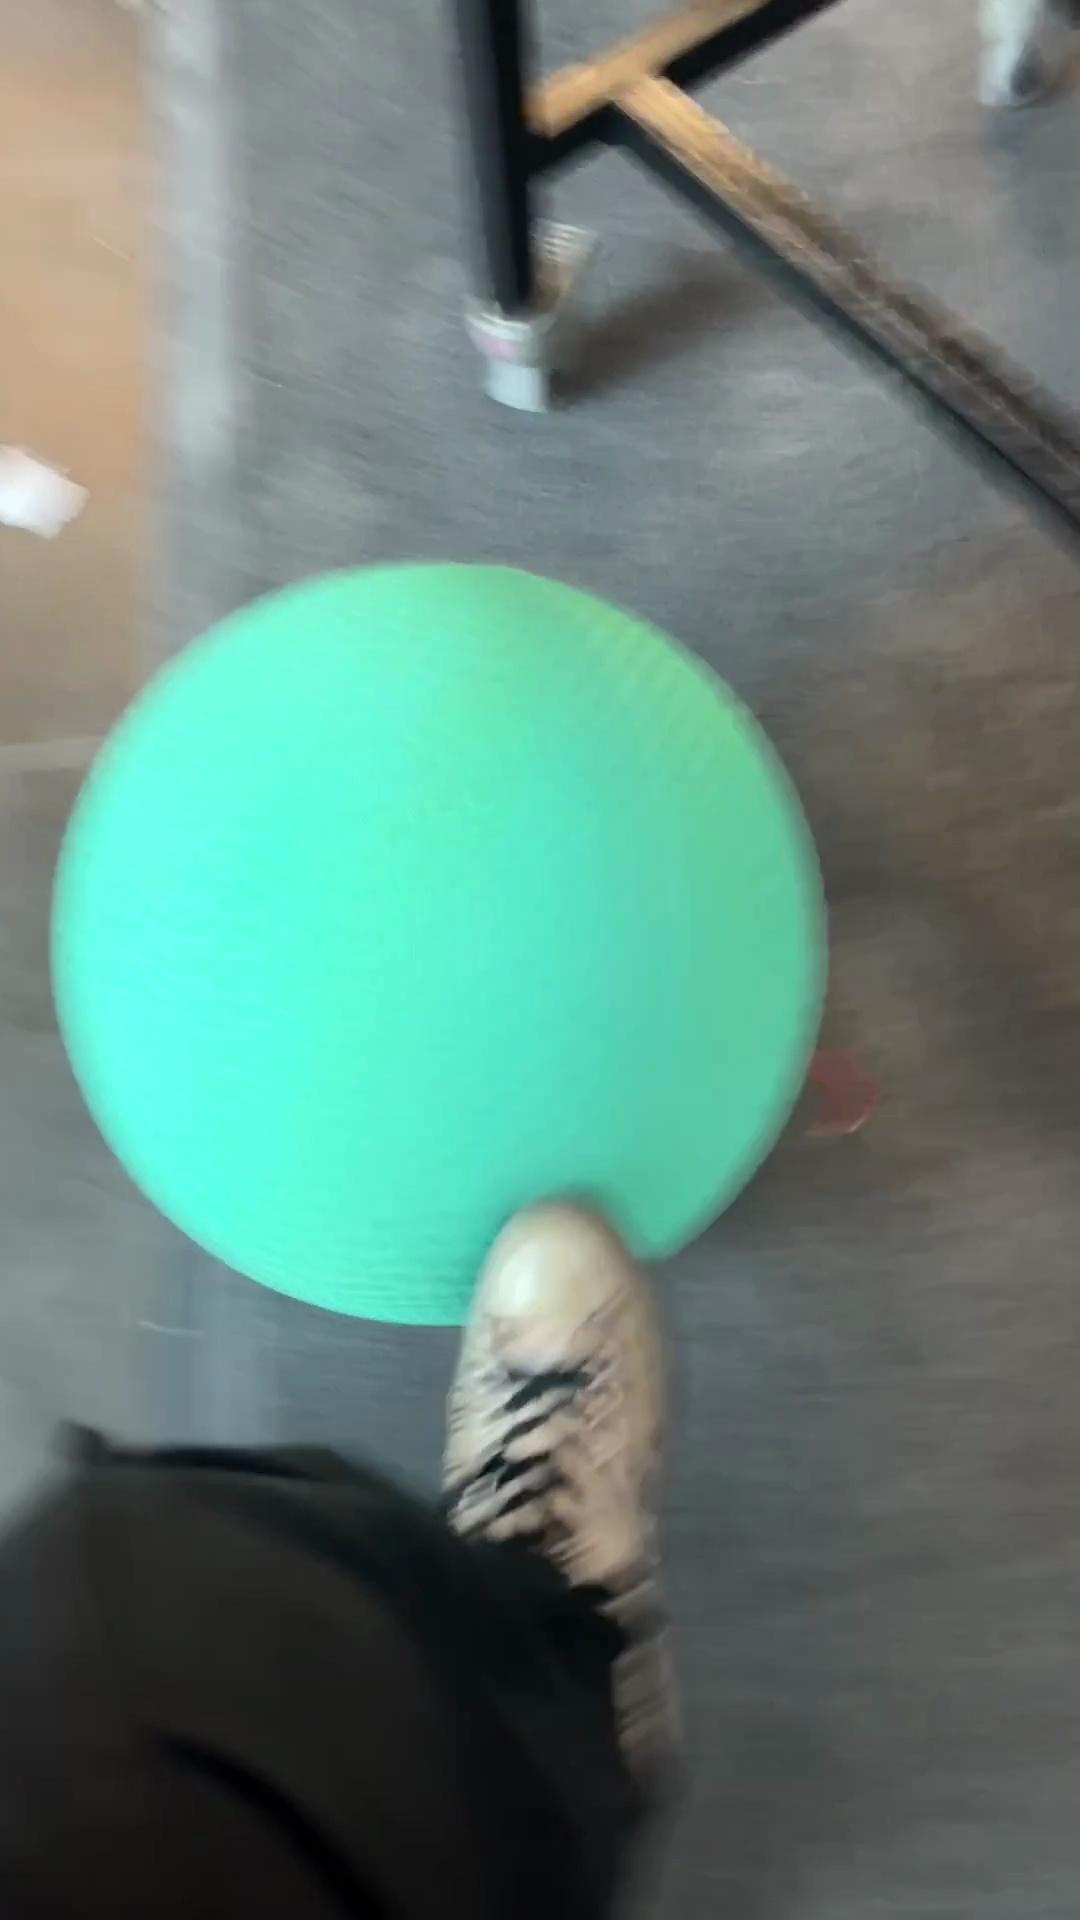ALGAE: (46, 556, 831, 1330)
